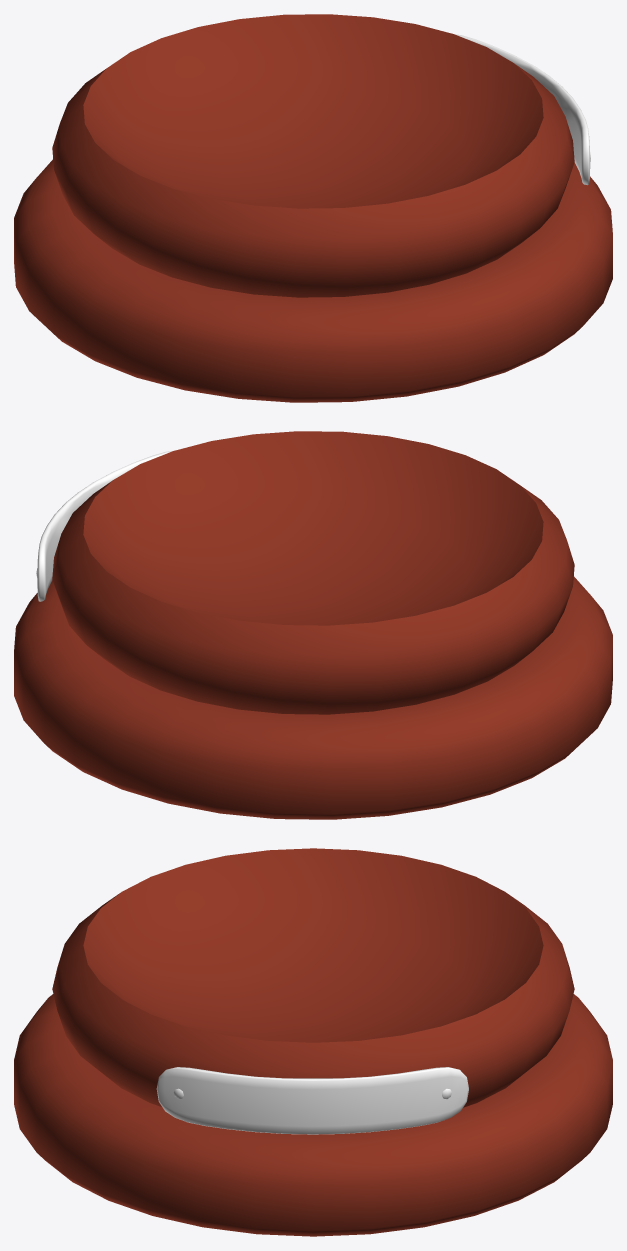
File: bottom.glb
The picture shows the model from 3 angles, top to bottom: view 1: azimuth 30°, elevation 25°; view 2: azimuth 150°, elevation 25°; view 3: azimuth 270°, elevation 25°; orthographic projection.
Visible parts, largest first — view 1: mainColor, nameTag; view 2: mainColor, nameTag; view 3: mainColor, nameTag.
Boxes of the visible parts, bbox=[...] form: mainColor: bbox=[14, 14, 612, 402]; nameTag: bbox=[455, 34, 590, 185]; mainColor: bbox=[14, 431, 612, 819]; nameTag: bbox=[37, 450, 173, 601]; mainColor: bbox=[14, 848, 612, 1236]; nameTag: bbox=[156, 1067, 468, 1134].
Bounding box in the file's own units: 10.79 × 3.35 × 10.79.
